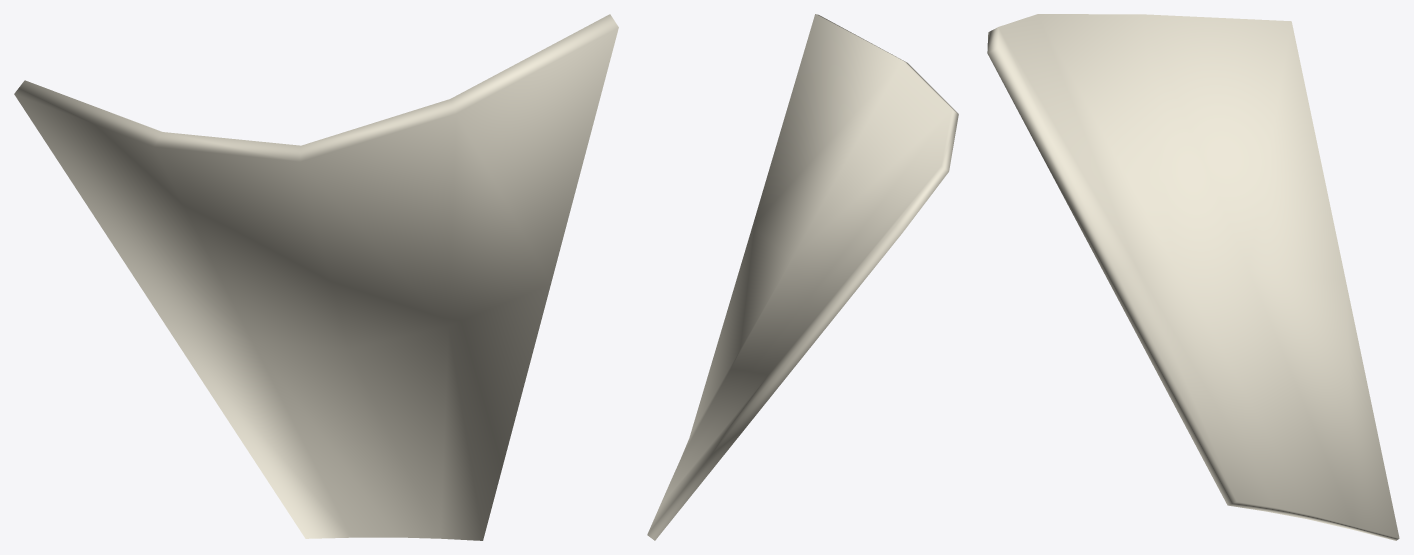
3 views of the same model, side by side, from view 1: azimuth 30°, elevation 25°; view 2: azimuth 150°, elevation 25°; view 3: azimuth 270°, elevation 25° (orthographic). The views are drawn at different scales.
Parts seen in each view (by area): view 1: ZA_82c88656d0edc8f9; view 2: ZA_82c88656d0edc8f9; view 3: ZA_82c88656d0edc8f9.
Part boxes in pixels (box(x1,y1,x2,y2)): ZA_82c88656d0edc8f9: box(14, 14, 618, 540); ZA_82c88656d0edc8f9: box(647, 14, 958, 540); ZA_82c88656d0edc8f9: box(987, 14, 1399, 540).
Size of the model in its own units: 0.0136 by 0.0225 by 0.017.
